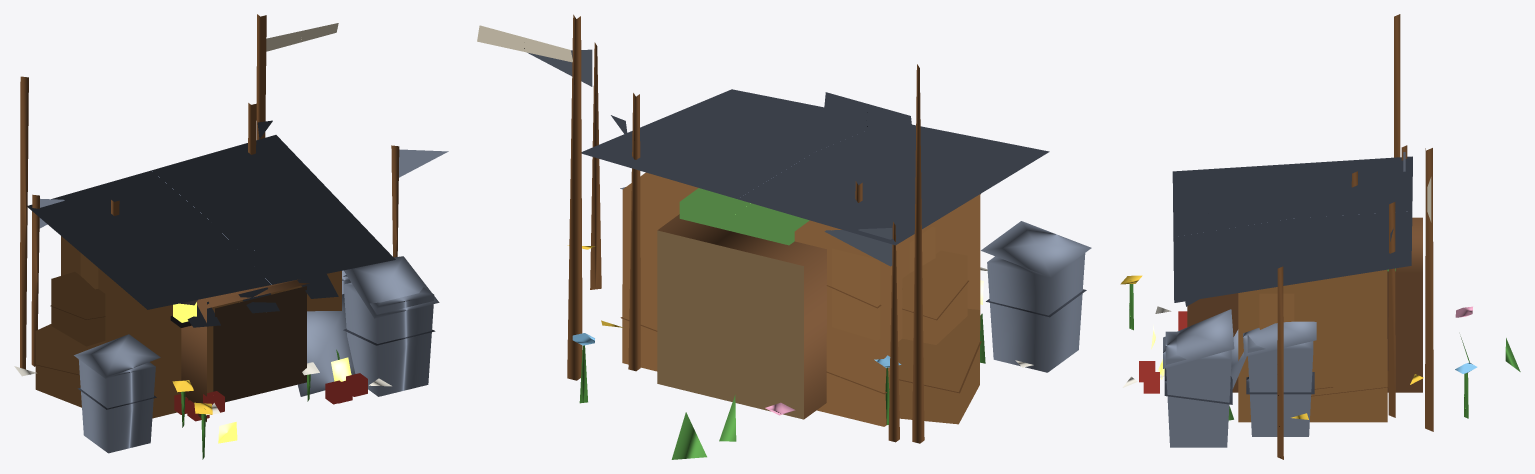
Rendered from raccoon-stash-den-blocky_lod2.glb.
3 renders of one model, left to right at view 1: azimuth 30°, elevation 25°; view 2: azimuth 150°, elevation 25°; view 3: azimuth 270°, elevation 25°, orthographic. The views are drawn at different scales.
Visible parts, largest first — view 1: lv3, lv2, lv1; view 2: lv3, lv2; view 3: lv3, lv2, lv1.
Boxes of the visible parts, x1,y1,x2,y2 form: lv3: (14,14,448,459); lv2: (31,103,351,421); lv1: (111,200,355,427); lv3: (477,14,1091,459); lv2: (601,92,987,442); lv3: (1120,14,1520,459); lv2: (1155,145,1469,436); lv1: (1228,171,1357,420).
Bounding box in the file's own units: 1.91 × 1.32 × 1.61.
